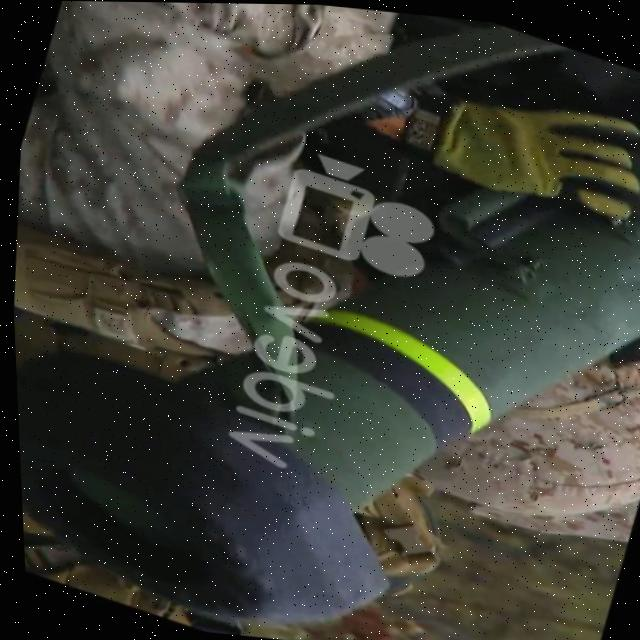rocket: (1, 37, 640, 640)
